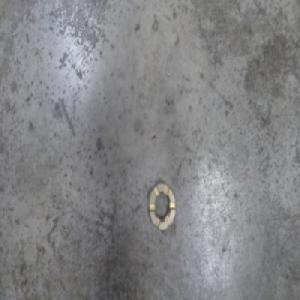Nut: (148, 177, 176, 232)
